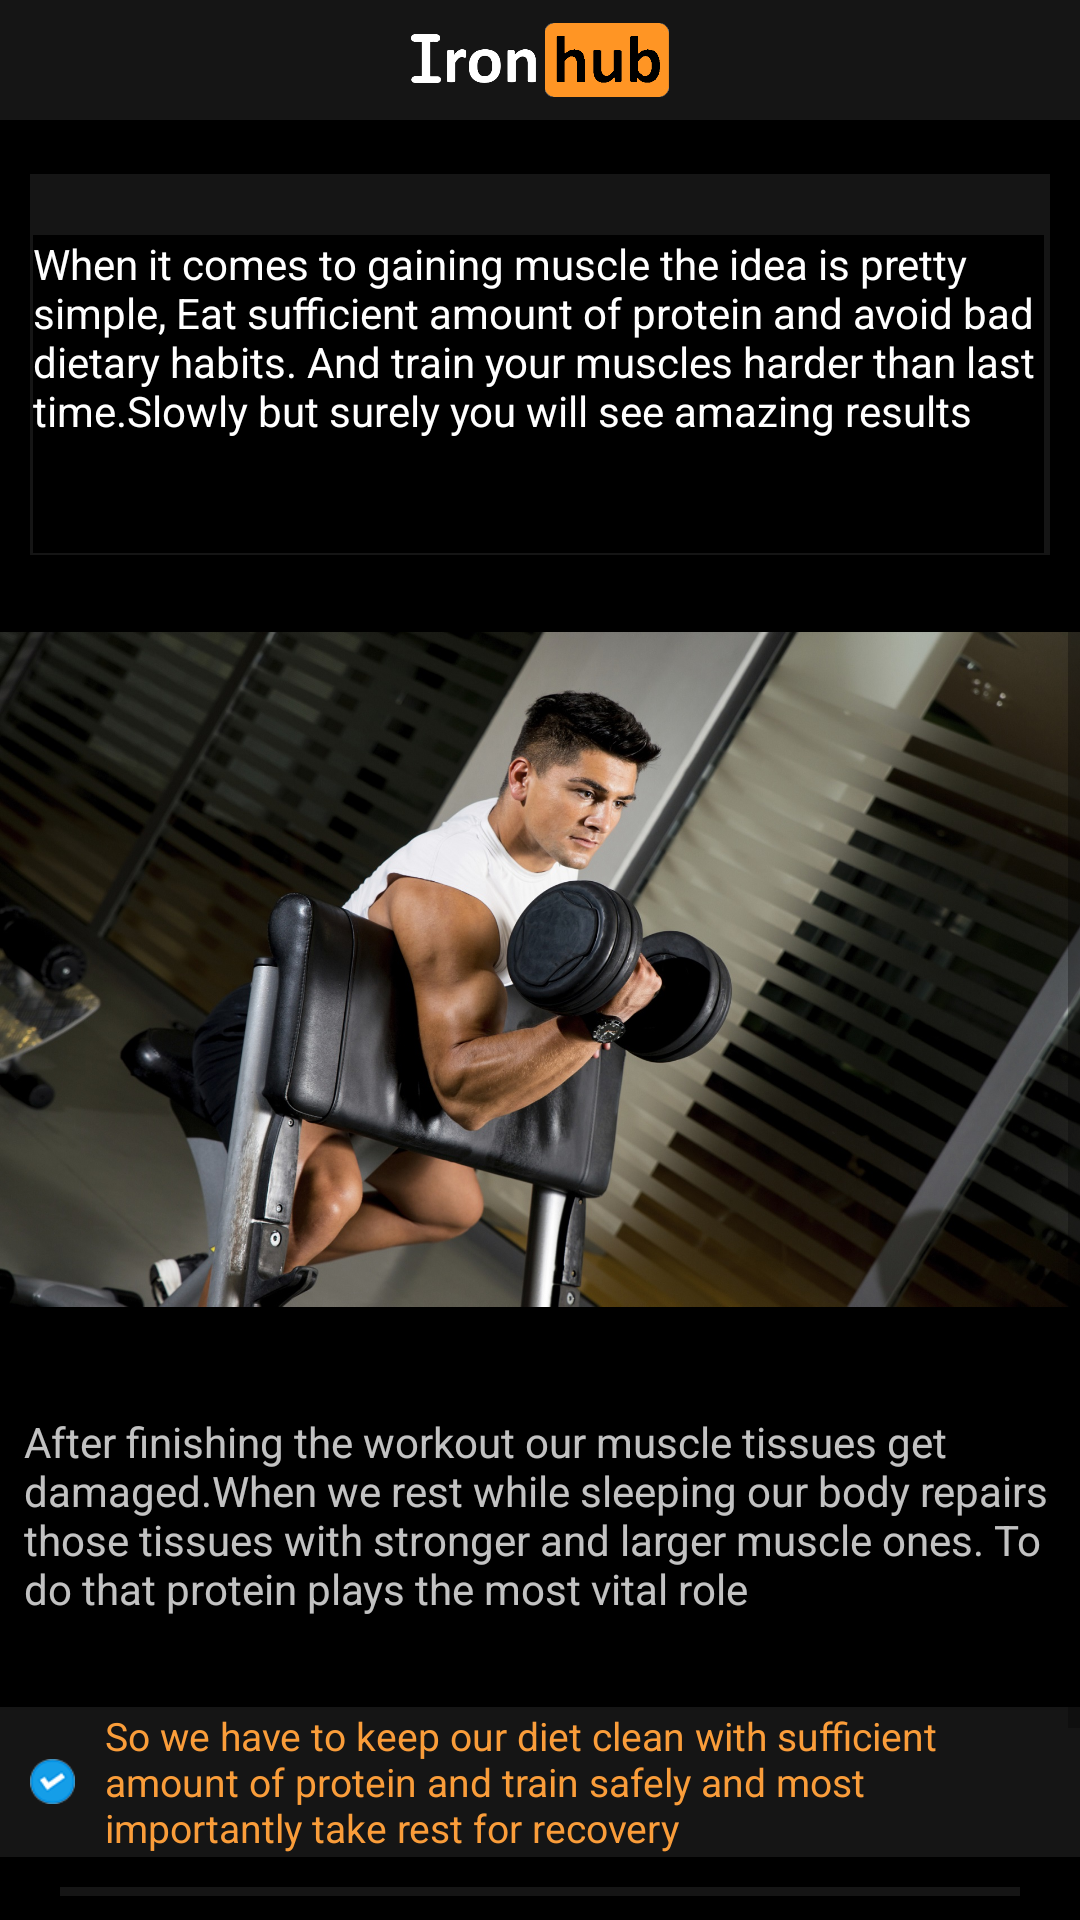

Where to tap for icons on this 1080 x 1920 app screen, as (x=x, y=y):
tick: (x=52, y=1781)
